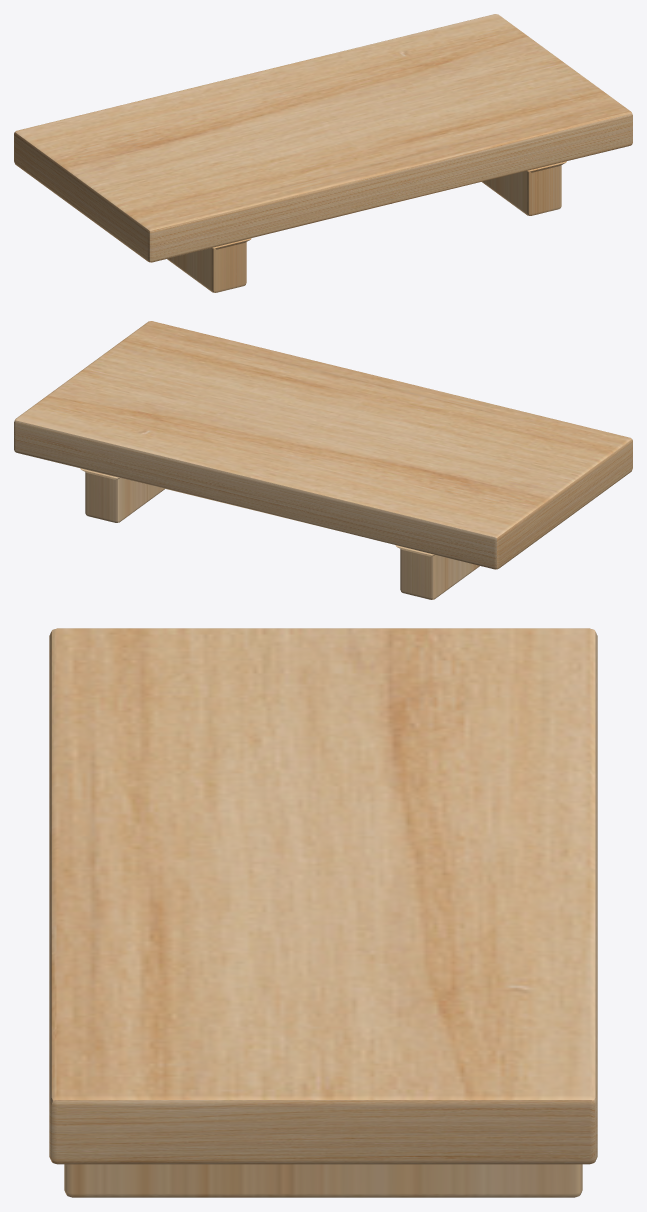
Rendered from geta.fbx.
The picture shows the model from 3 angles, top to bottom: view 1: azimuth 30°, elevation 25°; view 2: azimuth 150°, elevation 25°; view 3: azimuth 270°, elevation 25°; orthographic projection. The views are drawn at different scales.
Visible parts, largest first — view 1: pCube1; view 2: pCube1; view 3: pCube1.
Part boxes in pixels (x1,y1,x2,y2): pCube1: (14, 14, 632, 292); pCube1: (14, 321, 632, 599); pCube1: (49, 628, 597, 1197).
Bounding box in the file's own units: 8.23 × 1.36 × 4.03.
